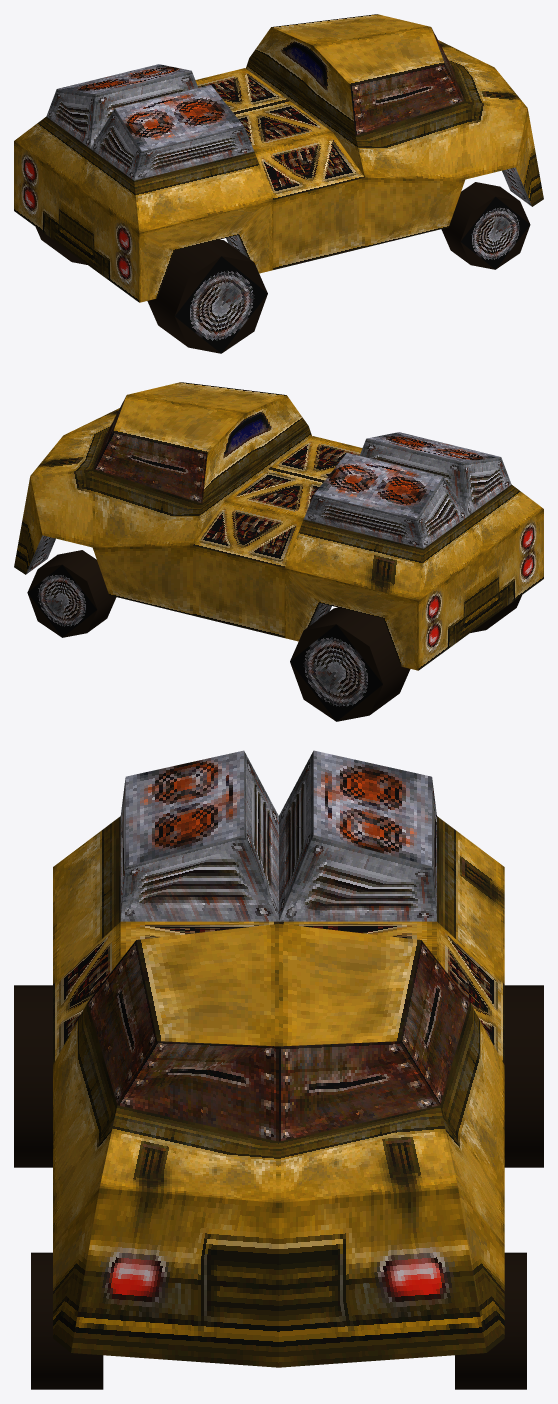
The model's file is Truck.glb.
3 views of the same model, one above another, from view 1: azimuth 30°, elevation 25°; view 2: azimuth 150°, elevation 25°; view 3: azimuth 270°, elevation 25° (orthographic). The views are drawn at different scales.
Visible parts, largest first — view 1: ChassisSR0, WheelRR, WheelFR; view 2: ChassisSR0, WheelRL, WheelFL; view 3: ChassisSR0, WheelRL, WheelRR, WheelFL, WheelFR.
Part boxes in pixels (x1,y1,x2,y2): ChassisSR0: (14,14,543,302); WheelRR: (147,239,267,353); WheelFR: (441,182,530,269); ChassisSR0: (14,382,543,670); WheelRL: (290,607,410,721); WheelFL: (27,550,116,637); ChassisSR0: (53,750,504,1367); WheelRL: (504,985,543,1167); WheelRR: (14,985,52,1167); WheelFL: (455,1252,526,1389); WheelFR: (31,1252,103,1389).
Bounding box in the file's own units: 7.34 × 3.53 × 4.39.
3 materials, 2 textured.
